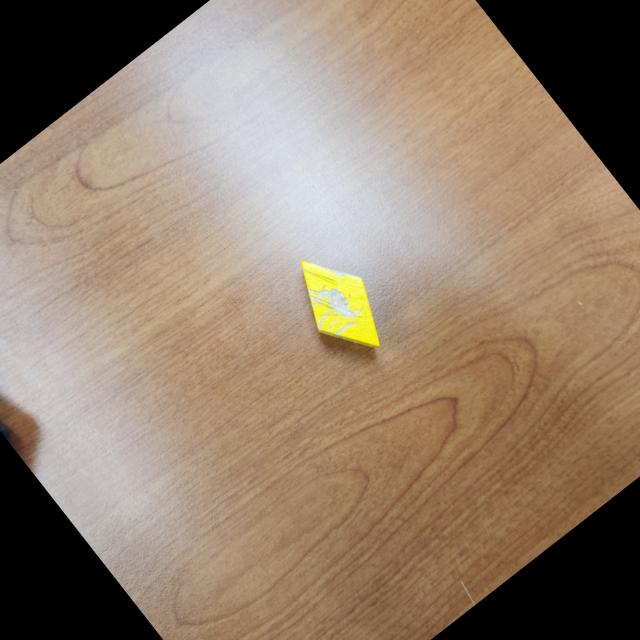broken: (278, 238, 402, 370)
